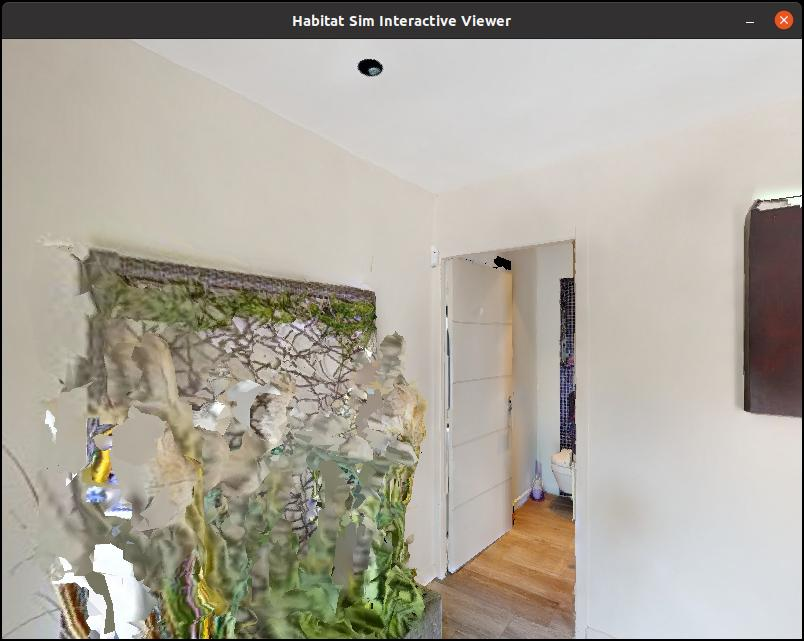door-frame: (435, 227, 590, 641)
